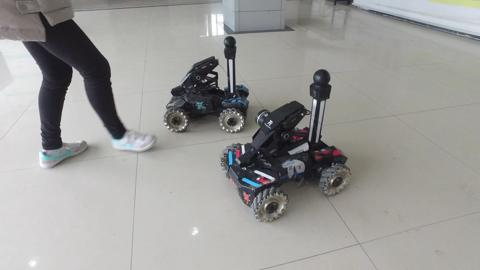chariot: (204, 65, 361, 234), (157, 30, 257, 142)
